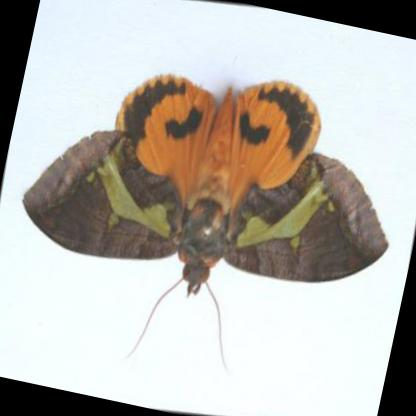fruit sucking moth: (19, 74, 389, 293)
